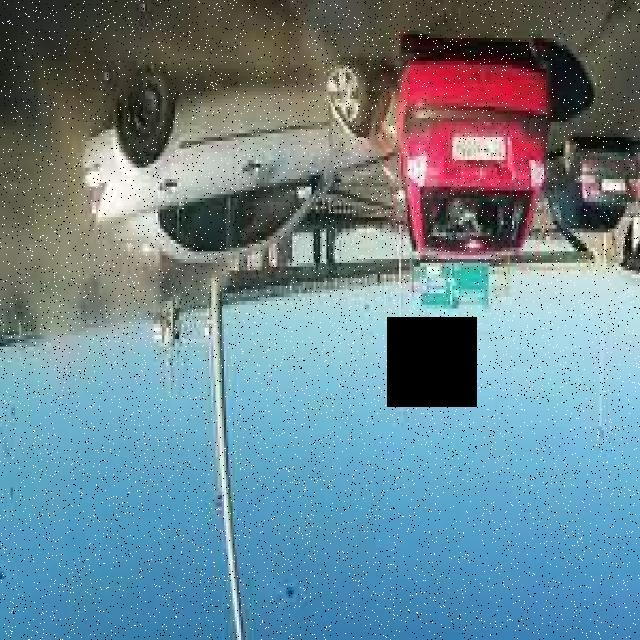moderate: (78, 38, 560, 286)
